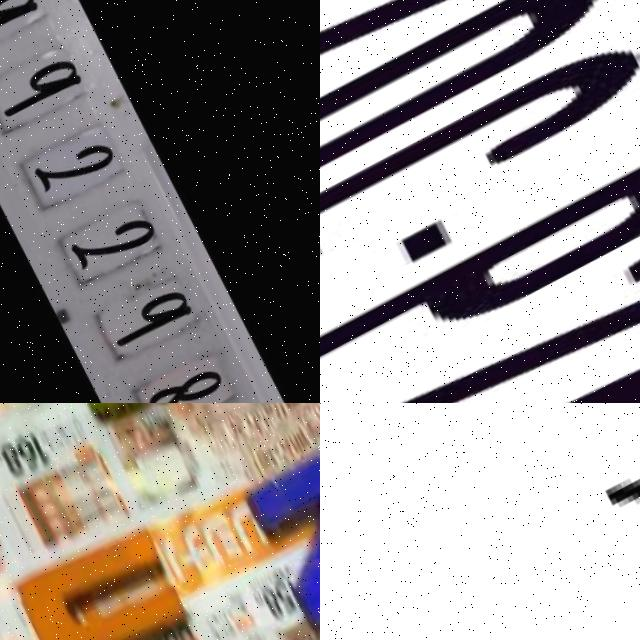2: (55, 198, 161, 288), (19, 123, 123, 213)
7: (320, 416, 640, 640), (320, 219, 640, 403), (320, 0, 601, 188)
8: (128, 353, 226, 403)
9: (91, 277, 196, 365), (0, 41, 89, 132), (0, 0, 47, 58)
A: (320, 297, 640, 403)
C: (320, 33, 640, 359)
D: (320, 0, 640, 268)
N: (234, 433, 320, 639)
P: (320, 148, 640, 403)
W: (5, 514, 213, 640)
